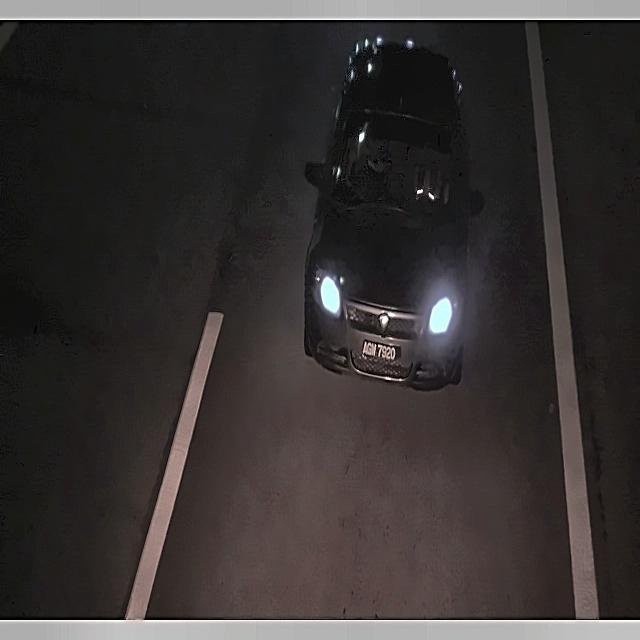car: (358, 336, 403, 372)
